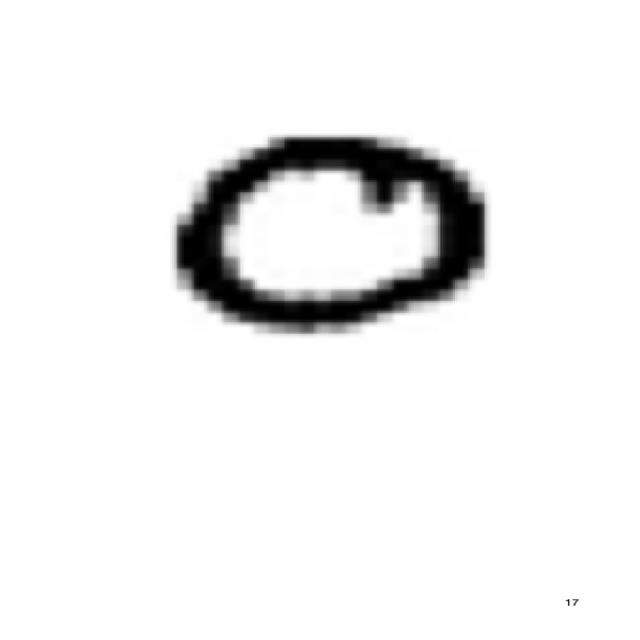5 -five-: (156, 124, 494, 338)
